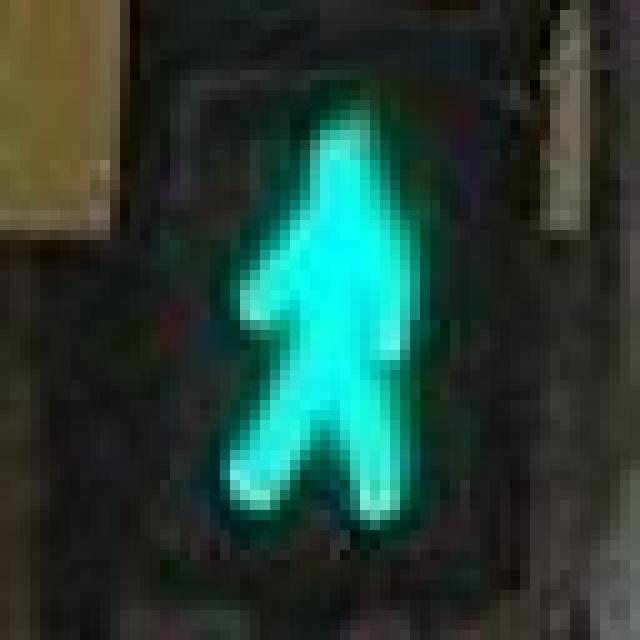geen-crossing: (210, 100, 420, 530)
